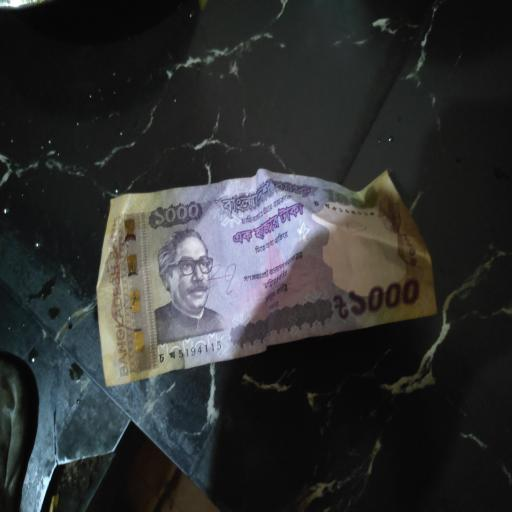1000taka: (106, 167, 440, 386)
